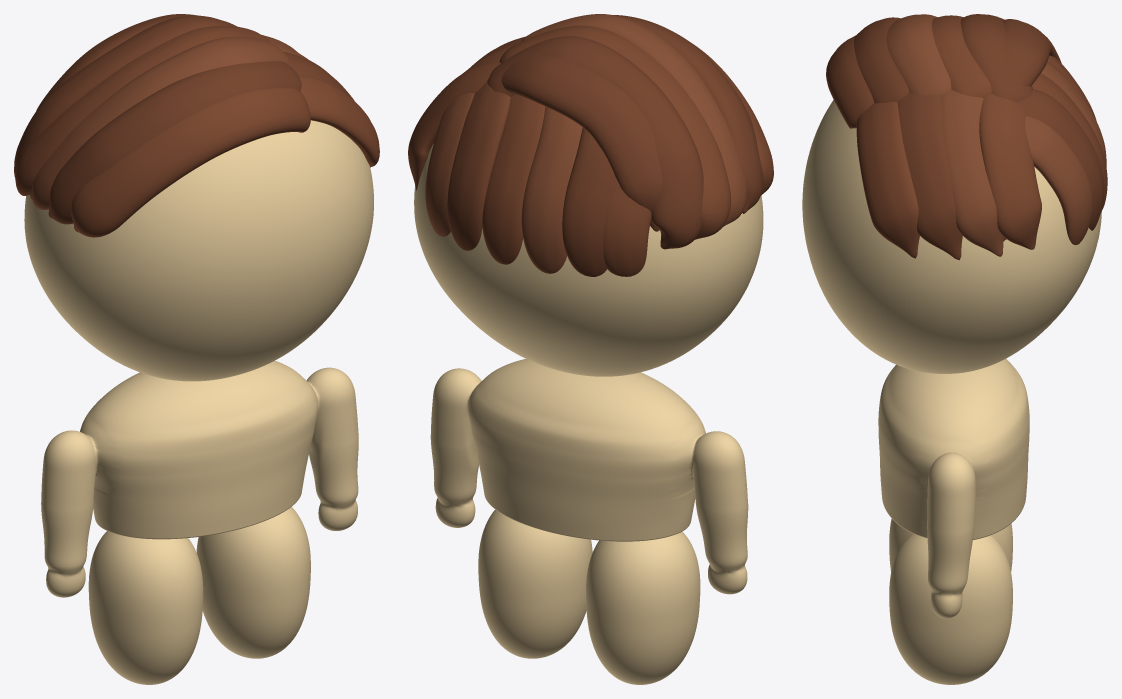
The model's file is Masculine-hands-round-base.glb.
The picture shows the model from 3 angles, left to right: view 1: azimuth 30°, elevation 25°; view 2: azimuth 150°, elevation 25°; view 3: azimuth 270°, elevation 25°; orthographic projection.
Visible parts, largest first — view 1: Skin / soft oval head, Skin / rounded torso, Skin / leg blob -1, Skin / leg blob 1, Hair / Side part main 0, Hair / Side part main 1, Hair / Side part main 2, Hair / Side part main 3, Hair / Side part main 4, Hair / Side part short 0, Hair / Side part crown, Hair / Side part short 1; view 2: Skin / rounded torso, Skin / soft oval head, Skin / leg blob -1, Skin / leg blob 1, Hair / Side part crown, Hair / Side part main 4, Hair / Side part nape 2, Hair / Side part main 3, Hair / Side part nape 3, Hair / Side part nape 4, Hair / Side part main 2, Hair / Side part nape 1 (+5 smaller); view 3: Skin / soft oval head, Skin / rounded torso, Skin / leg blob 1, Hair / Side part short 3, Hair / Side part short 0, Hair / Side part short 1, Hair / Side part short 2, Hair / Side part nape 5, Hair / Side part main 2, Hair / Side part nape 4, Hair / Side part main 4, Hair / Side part main 1 (+6 smaller).
Boxes of the visible parts, x1,y1,x2,y2 form: Skin / soft oval head: (24,120,373,381); Skin / rounded torso: (41,360,358,597); Skin / leg blob -1: (88,531,203,684); Skin / leg blob 1: (196,507,310,658); Hair / Side part main 0: (71,88,310,237); Hair / Side part main 1: (48,61,301,224); Hair / Side part main 2: (31,36,288,209); Hair / Side part main 3: (15,26,269,195); Hair / Side part main 4: (14,15,236,177); Hair / Side part short 0: (298,75,379,167); Hair / Side part crown: (36,14,197,110); Hair / Side part short 1: (283,51,354,100); Skin / rounded torso: (430,359,748,594); Skin / soft oval head: (414,143,763,376); Skin / leg blob -1: (586,531,700,684); Skin / leg blob 1: (478,509,592,658); Hair / Side part crown: (501,55,662,231); Hair / Side part main 4: (487,36,703,249); Hair / Side part nape 2: (521,106,582,273); Hair / Side part main 3: (499,25,730,239); Hair / Side part nape 3: (482,94,545,264); Hair / Side part nape 4: (447,82,510,250); Hair / Side part main 2: (521,14,747,226); Hair / Side part nape 1: (562,127,615,276); Skin / soft oval head: (802,100,1101,373); Skin / rounded torso: (878,359,1029,618); Skin / leg blob 1: (889,533,1012,684); Hair / Side part short 3: (979,93,1041,249); Hair / Side part short 0: (856,102,919,258); Hair / Side part short 1: (897,93,962,260); Hair / Side part short 2: (940,89,1003,256); Hair / Side part nape 5: (1025,116,1092,244); Hair / Side part main 2: (886,14,951,96); Hair / Side part nape 4: (1016,89,1104,230); Hair / Side part main 4: (960,14,1032,102); Hair / Side part main 1: (854,17,909,103).
Size of the model in its own units: 0.9754 by 1.87 by 0.825.
